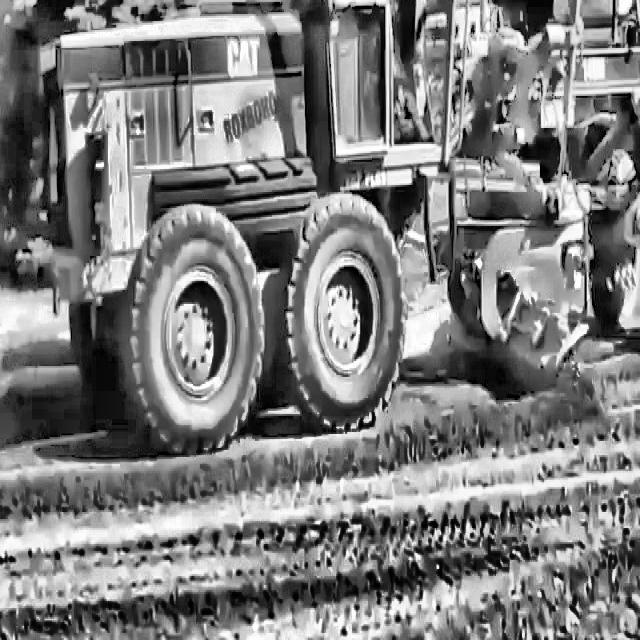buldozerpayloadergrader: (15, 0, 640, 452)
